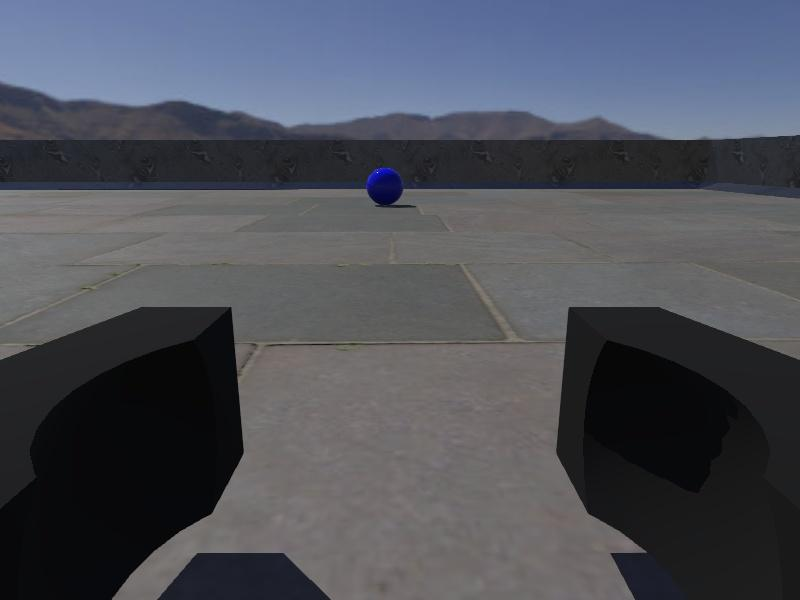blue ball: (366, 165, 403, 205)
